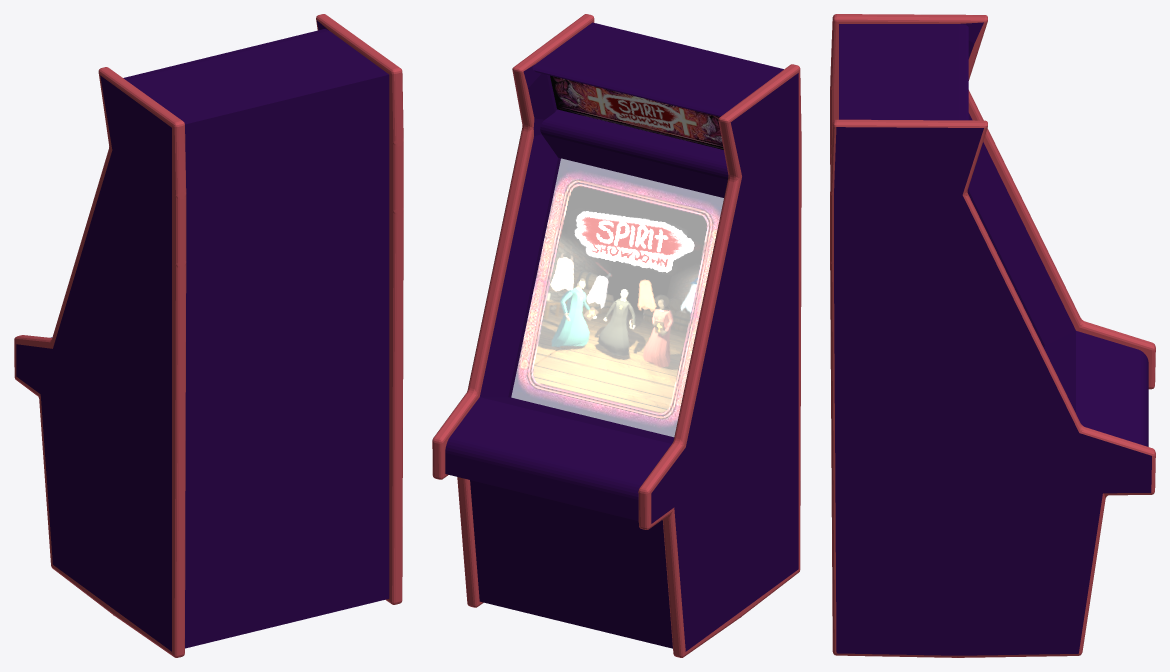
File: arcadeCabinet1.fbx
The picture shows the model from 3 angles, left to right: view 1: azimuth 30°, elevation 25°; view 2: azimuth 150°, elevation 25°; view 3: azimuth 270°, elevation 25°; orthographic projection. The views are drawn at different scales.
Visible parts, largest first — view 1: Cabinet.001; view 2: Cabinet.001; view 3: Cabinet.001.
Part boxes in pixels (left/top/right/bottom): Cabinet.001: left=14, top=14, right=403, bottom=657; Cabinet.001: left=432, top=14, right=801, bottom=657; Cabinet.001: left=830, top=14, right=1155, bottom=657.
Bounding box in the file's own units: 109 × 244 × 135.
